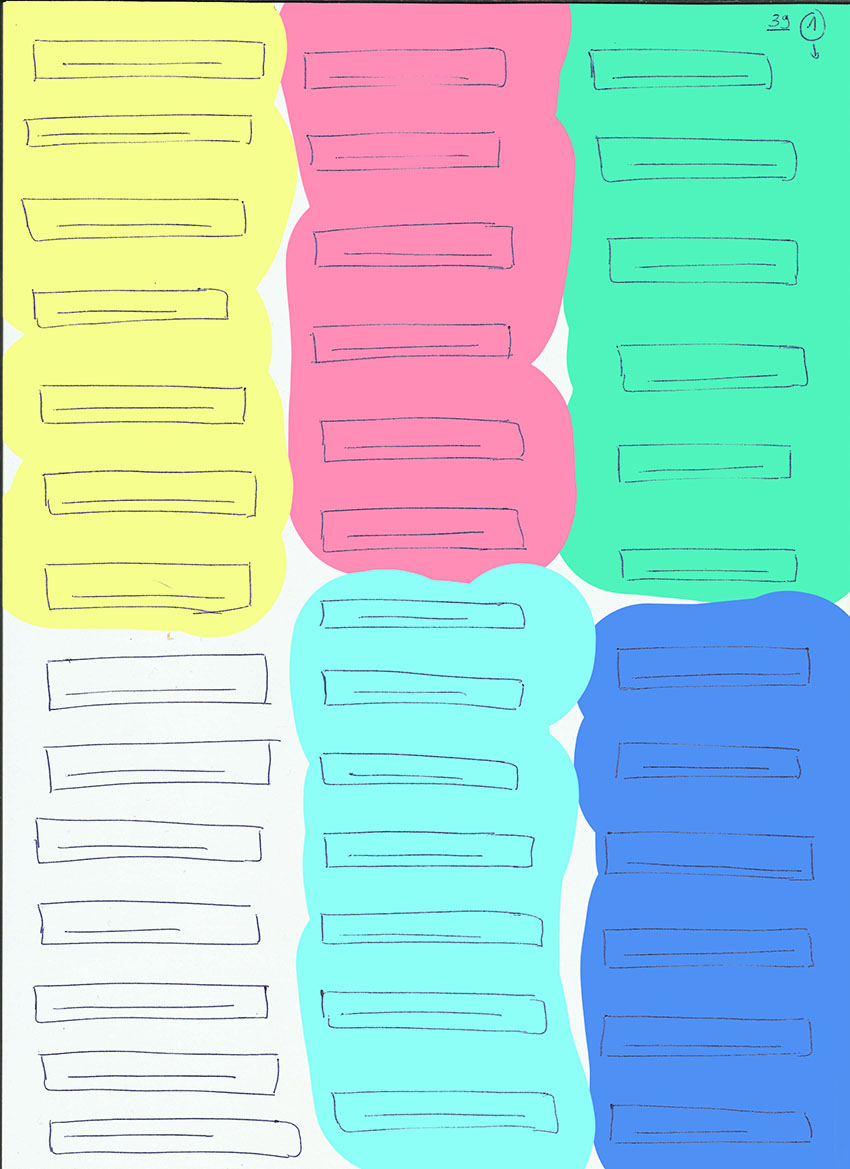edit_text: (39, 738, 283, 793), (43, 653, 274, 711), (36, 1046, 282, 1100), (316, 985, 550, 1040), (40, 559, 254, 619), (30, 814, 265, 868), (601, 830, 824, 886), (44, 1116, 304, 1164), (308, 217, 522, 275), (315, 413, 529, 470), (317, 826, 543, 879), (613, 339, 812, 399), (312, 504, 535, 557), (40, 468, 261, 521), (29, 979, 273, 1027), (330, 1088, 562, 1138), (604, 232, 808, 288), (33, 899, 262, 948), (29, 36, 268, 82), (17, 195, 250, 242), (595, 1013, 817, 1062), (314, 664, 529, 714), (589, 133, 802, 183), (318, 906, 544, 952), (303, 319, 518, 367), (34, 380, 249, 428), (614, 644, 815, 695), (301, 44, 508, 93), (313, 747, 524, 795), (607, 1100, 815, 1148), (601, 925, 815, 971), (583, 45, 776, 95), (301, 130, 504, 176), (613, 738, 805, 786), (28, 286, 229, 331), (315, 596, 530, 637), (612, 441, 798, 487), (613, 546, 802, 591), (21, 114, 256, 147)
